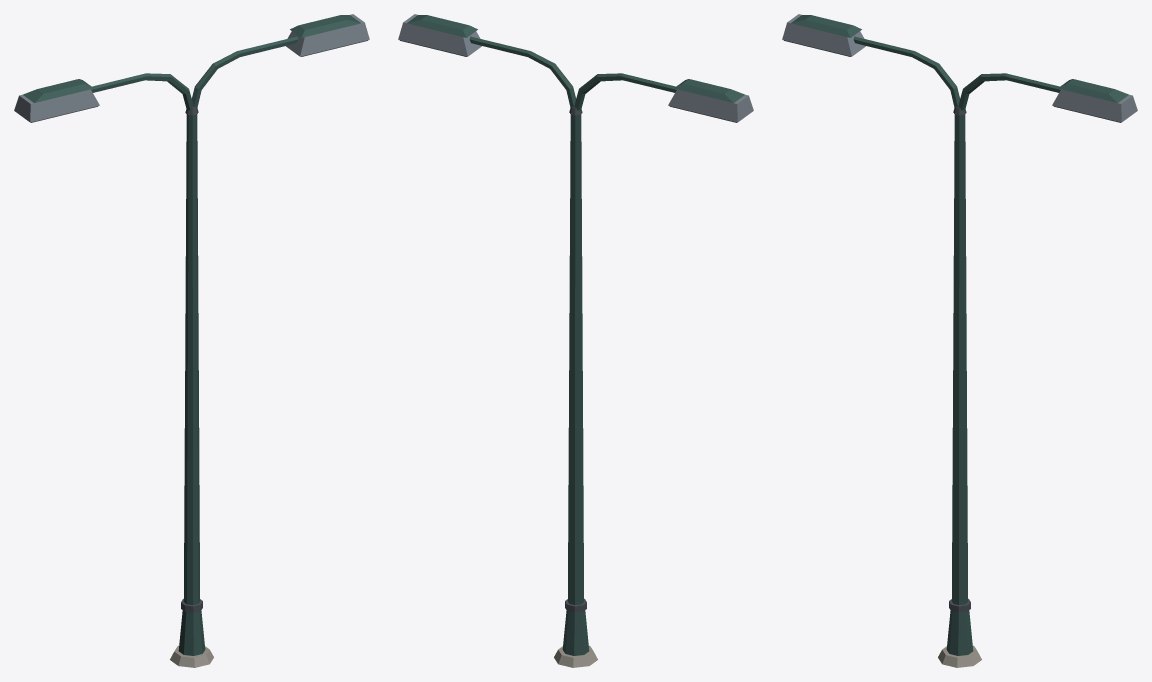
The model's file is street_lamp_double.glb.
3 renders of one model, left to right at view 1: azimuth 30°, elevation 25°; view 2: azimuth 150°, elevation 25°; view 3: azimuth 330°, elevation 25°, orthographic.
Visible parts, largest first — view 1: Body; view 2: Body; view 3: Body.
Boxes of the visible parts, x1,y1,x2,y2 form: Body: (14,14,369,667); Body: (398,14,753,667); Body: (782,14,1137,667).
Bounding box in the file's own units: 4.38 × 7.44 × 0.4619.
